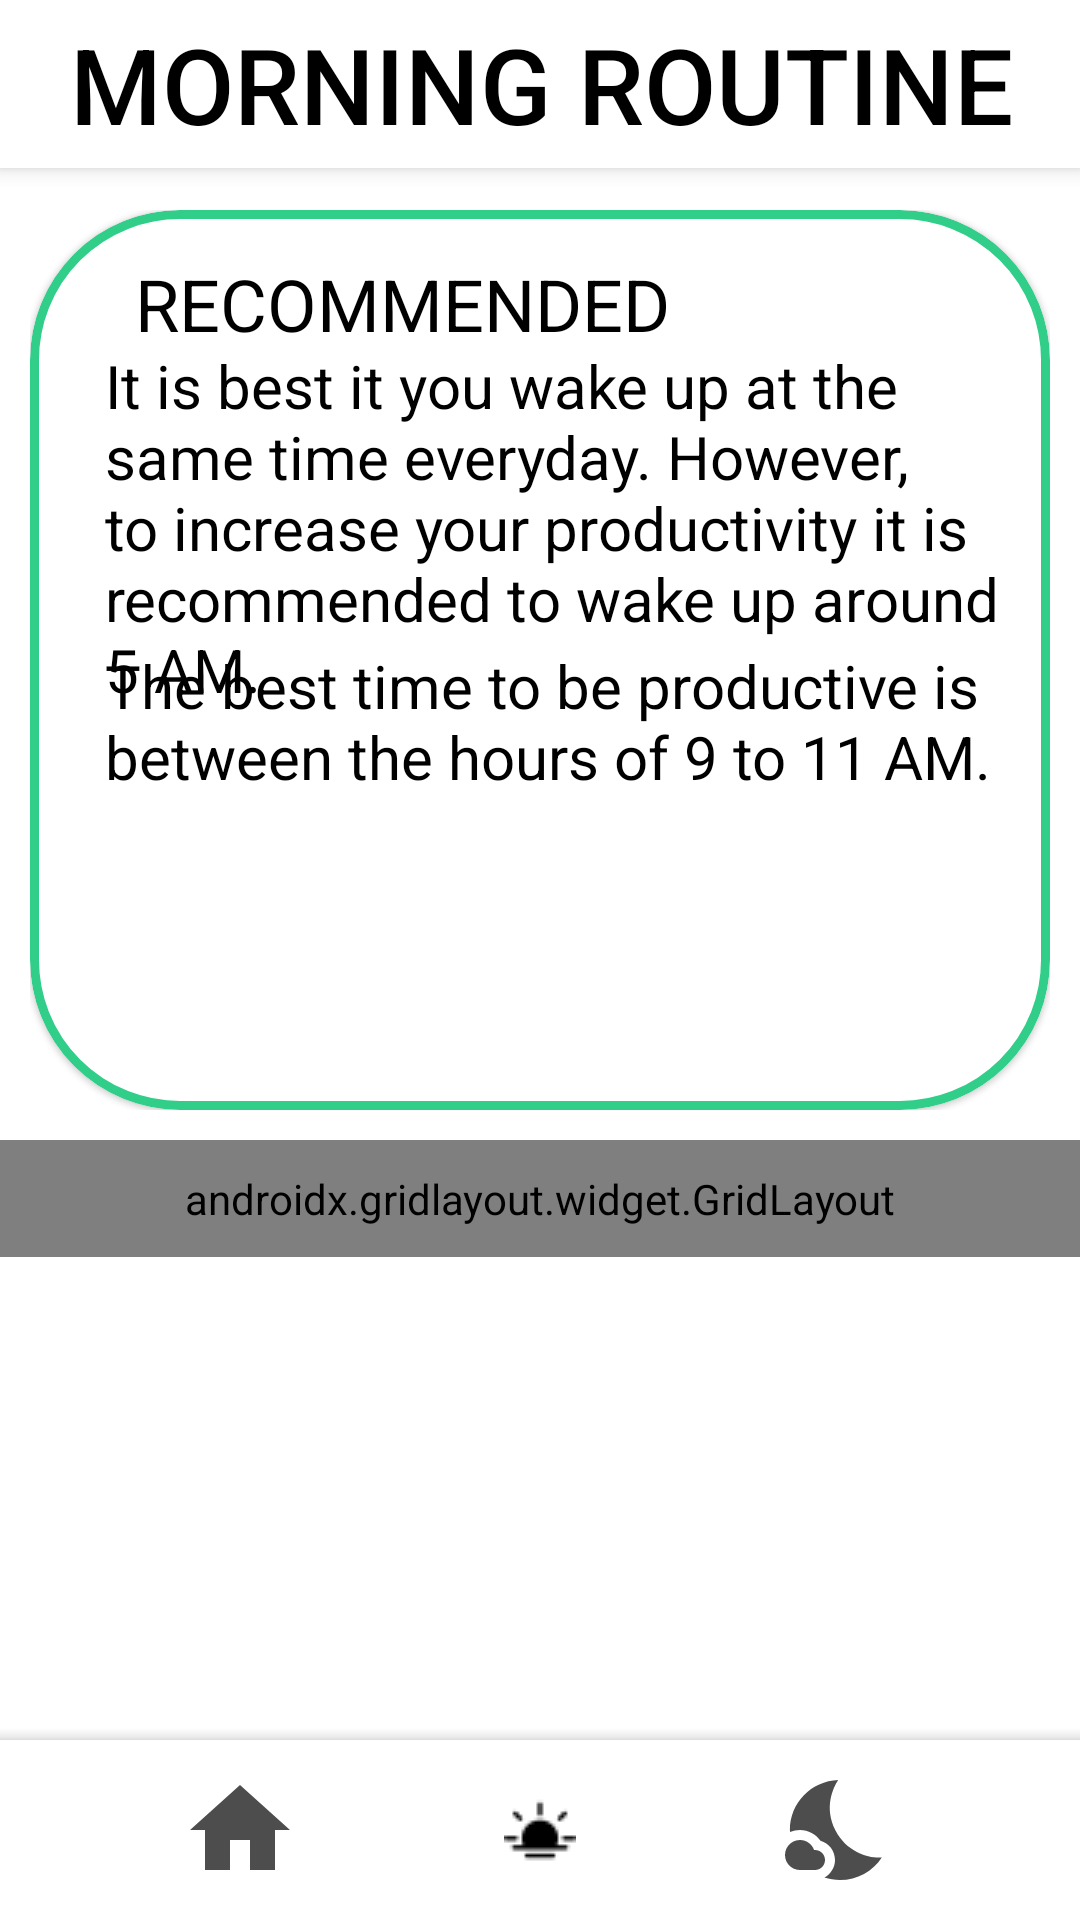

Icons on this 1080px×1920px Android screen, each with its box as (x1, y1, x2, y2):
home: (190, 1785, 290, 1870)
night: (785, 1780, 882, 1880)
sunset: (504, 1802, 576, 1860)
